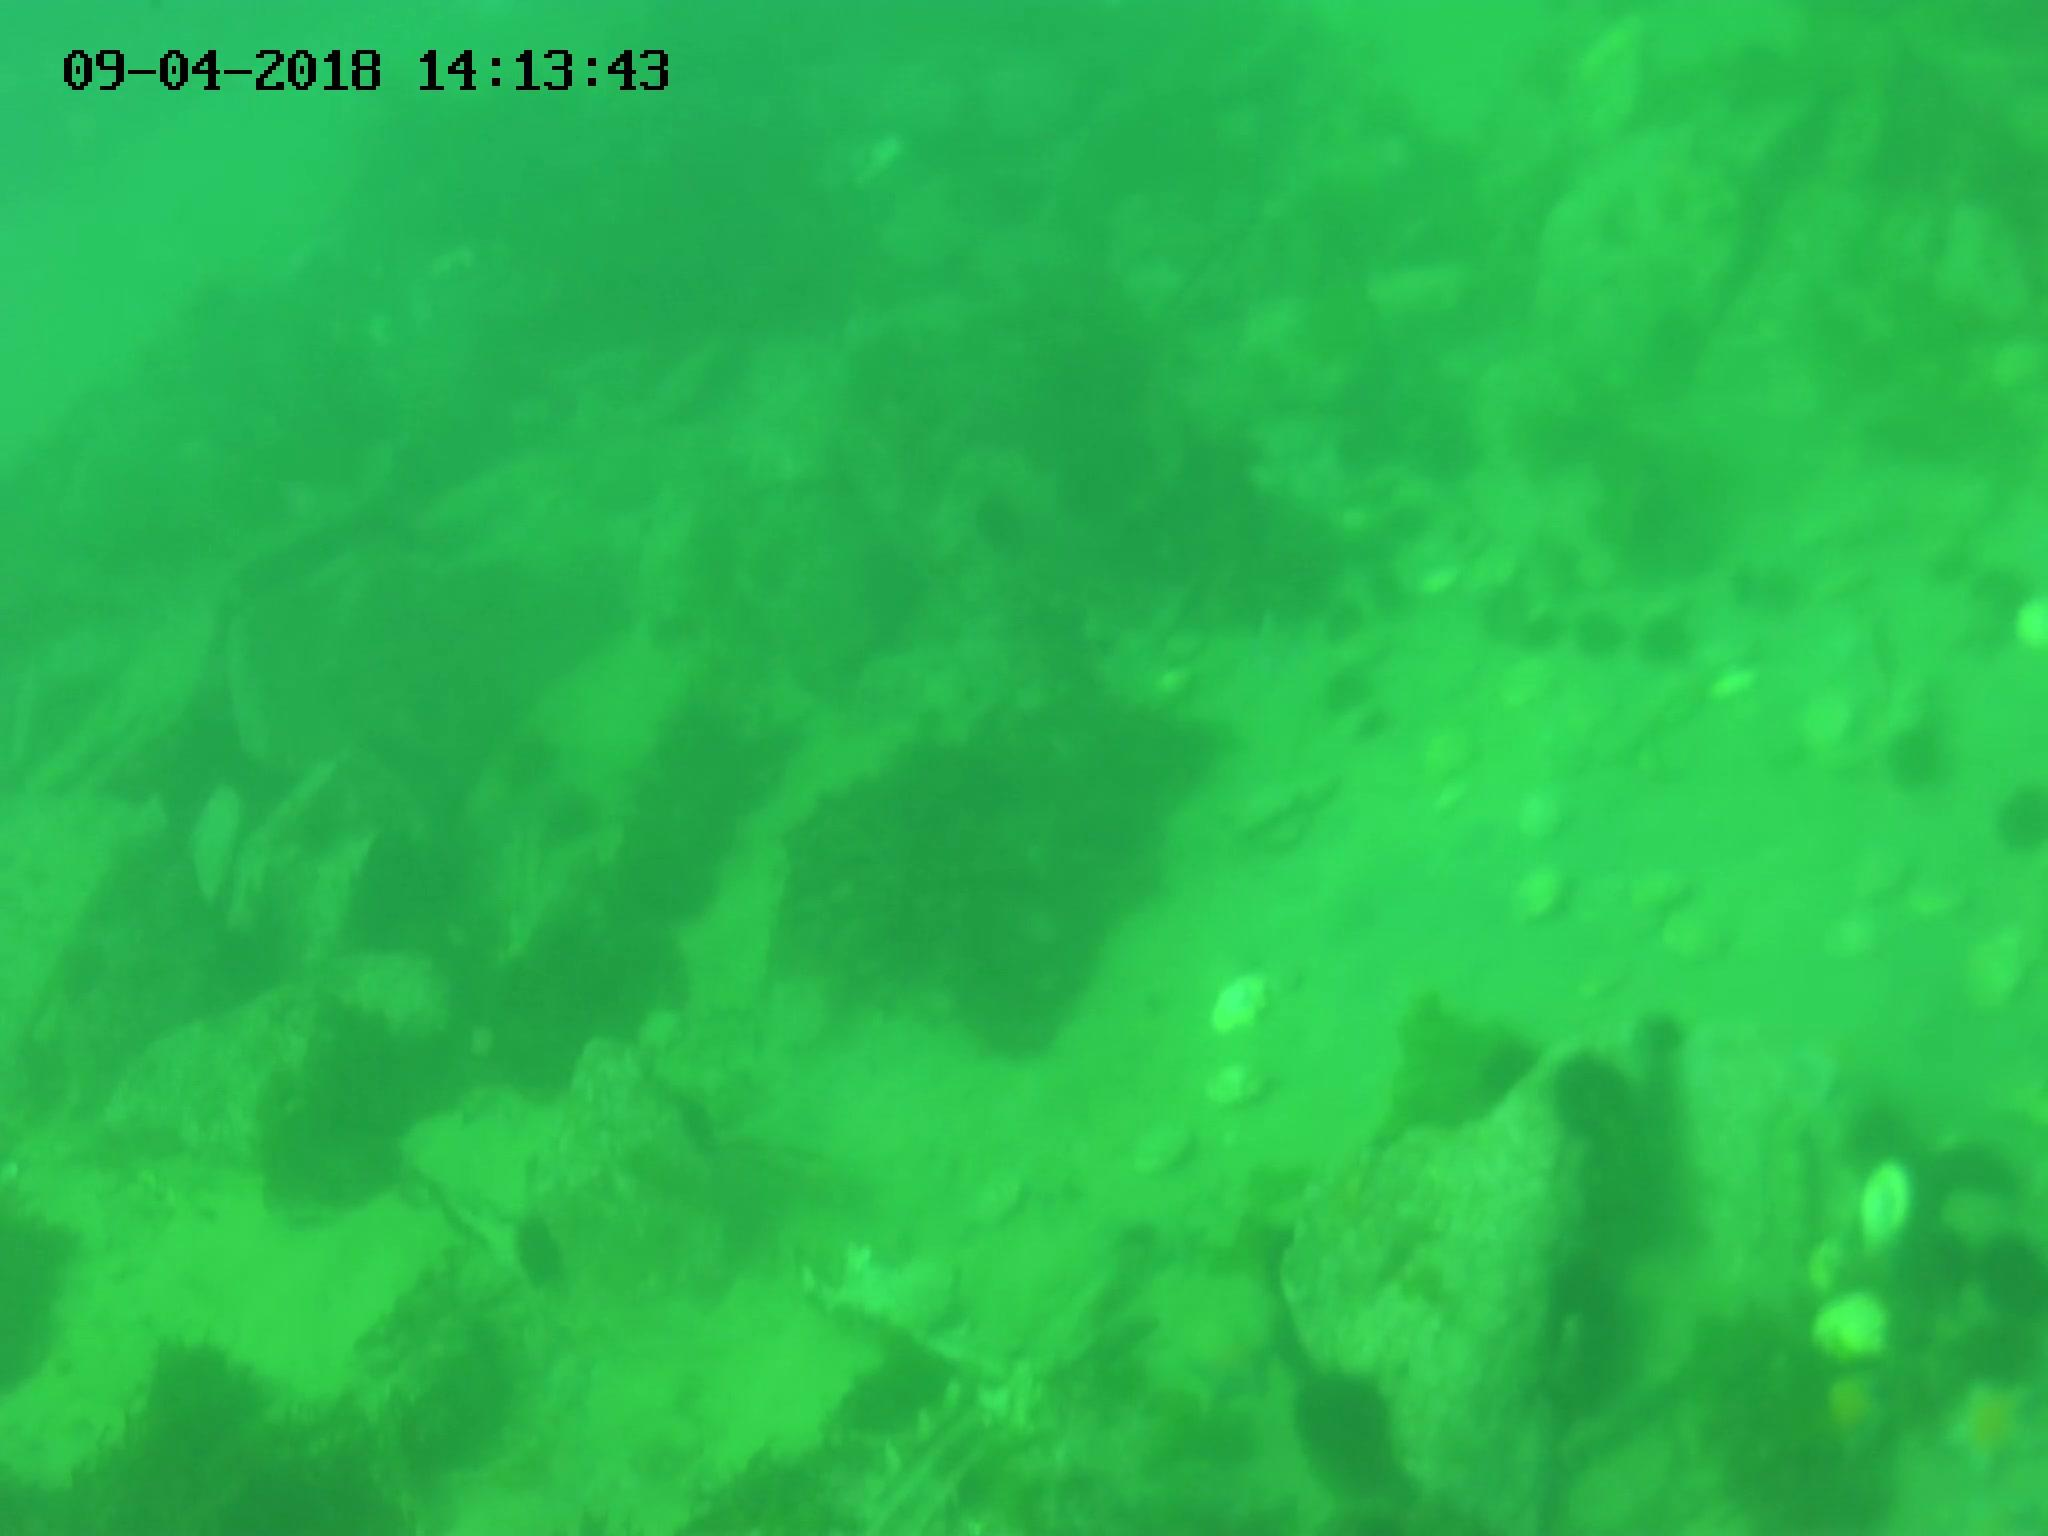scallop: (1134, 1117, 1205, 1186), (1209, 966, 1271, 1036), (1664, 902, 1729, 965), (1509, 863, 1571, 928), (1205, 1062, 1279, 1112)
